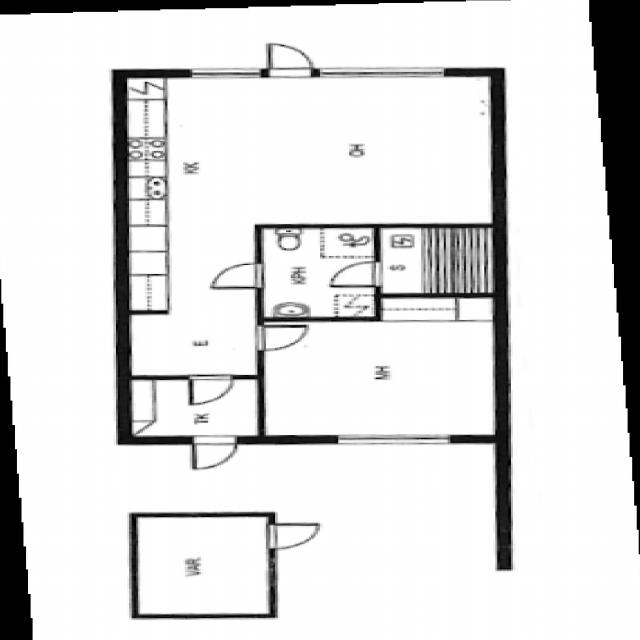door: (192, 436, 237, 469), (267, 524, 321, 550), (270, 45, 312, 77), (256, 326, 308, 351), (331, 262, 382, 287), (213, 264, 264, 288), (190, 376, 232, 404)
